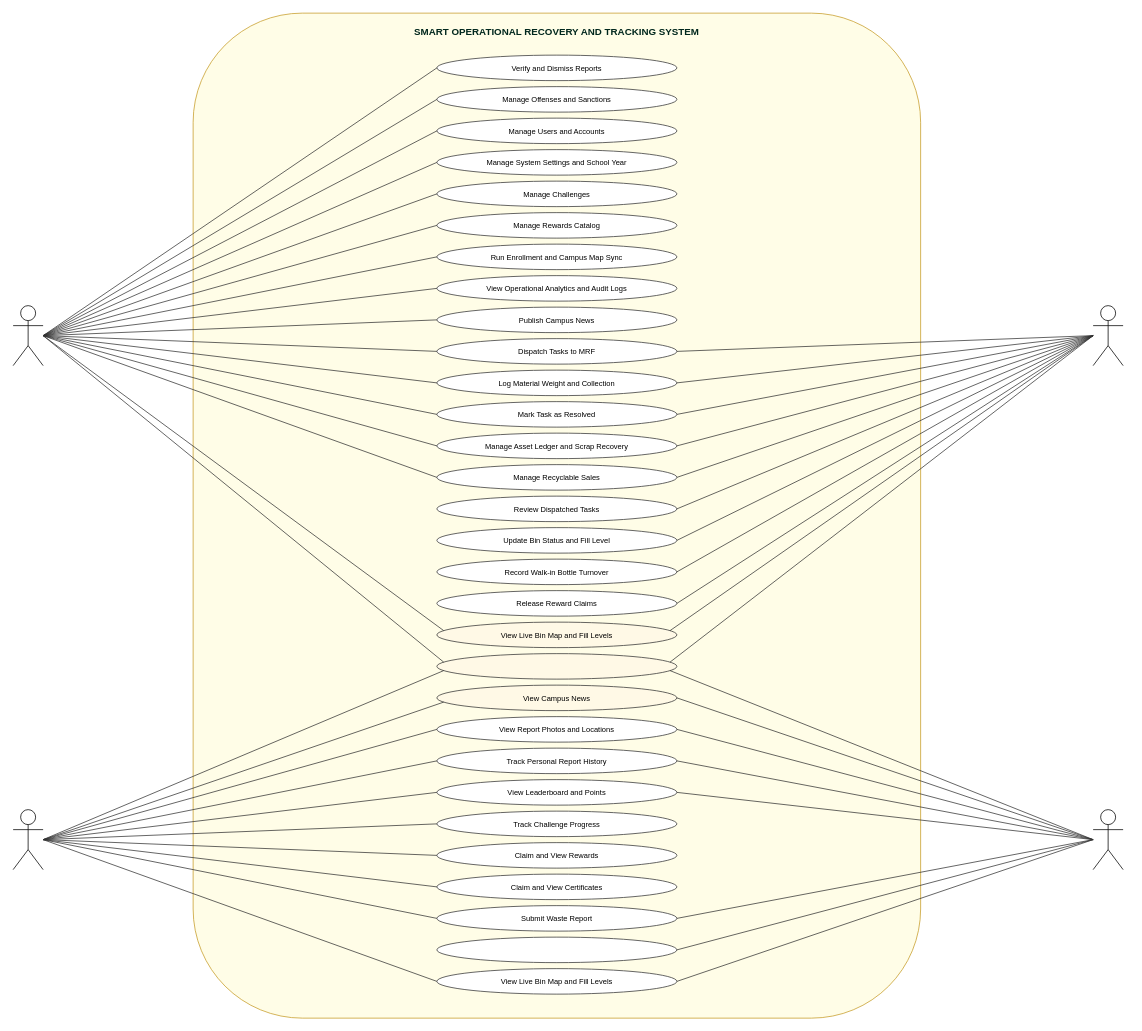
The diagram is 1142 pixels wide and 1031 high, and some of its shapes have lost their labels. Each missing label, with the box of its shape:
Admin: (12, 305, 43, 366)
Login and Authenticate: (436, 653, 677, 679)
MRF Staff: (1092, 305, 1123, 366)
Student: (12, 809, 43, 870)
Submit Asset Report: (436, 936, 677, 963)
Teacher: (1092, 809, 1123, 870)
